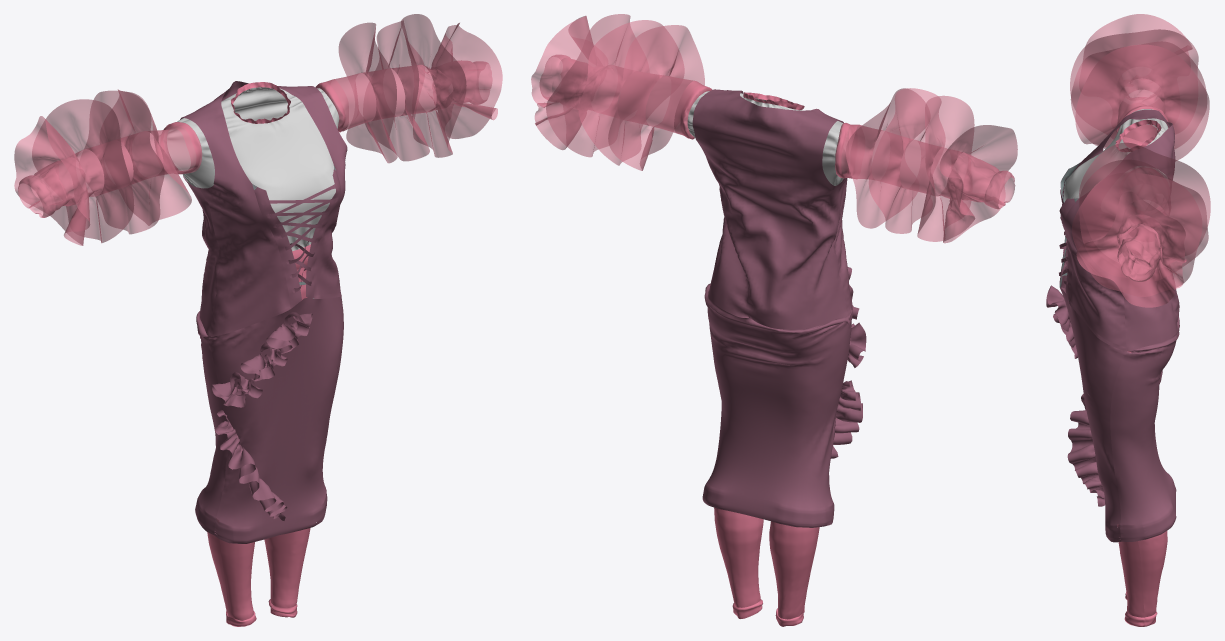
File: G_clothe11_pink.glb
3 renders of one model, left to right at view 1: azimuth 30°, elevation 25°; view 2: azimuth 150°, elevation 25°; view 3: azimuth 270°, elevation 25°, orthographic. The views are drawn at different scales.
Parts seen in each view (by area): view 1: Garment; view 2: Garment; view 3: Garment.
Boxes of the visible parts, <box> form: Garment: <box>14,14,502,626</box>; Garment: <box>531,14,1017,626</box>; Garment: <box>1046,14,1210,626</box>.
Bounding box in the file's own units: 1.23 × 1.43 × 0.4118.
Materials: 1 (1 with a texture image).
